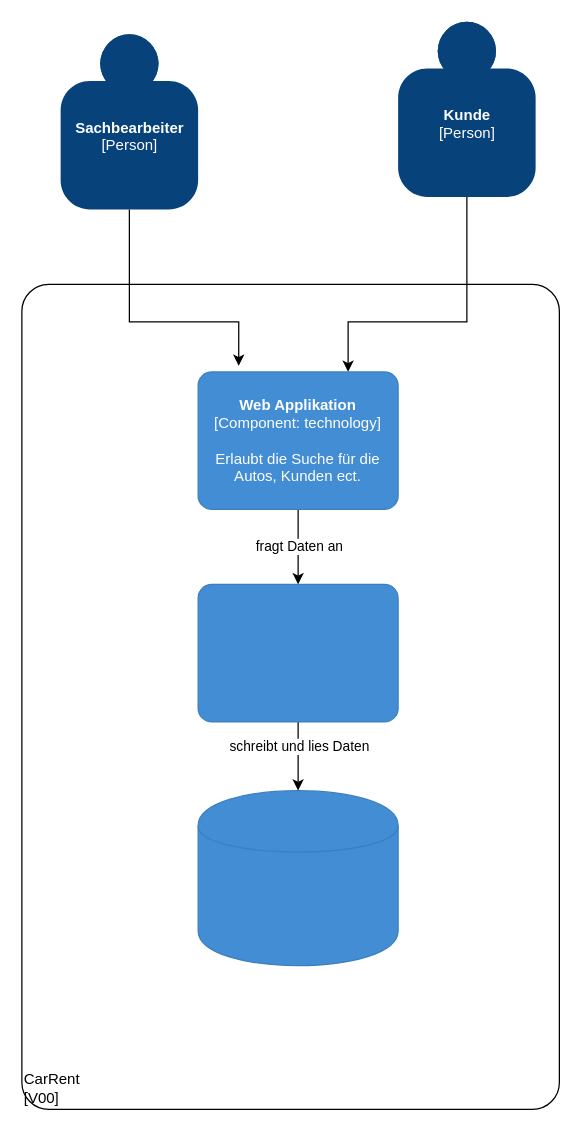
The diagram is 581 pixels wide and 1131 high, and some of its shapes have lost their labels. The centre of each missing label's shape, as x and y in pixels:
Backend [Component: .Net Core Applikation] Verwaltet Daten: point (297, 652)
Database [Container: MySQL] Speichert die Daten: point (297, 877)
